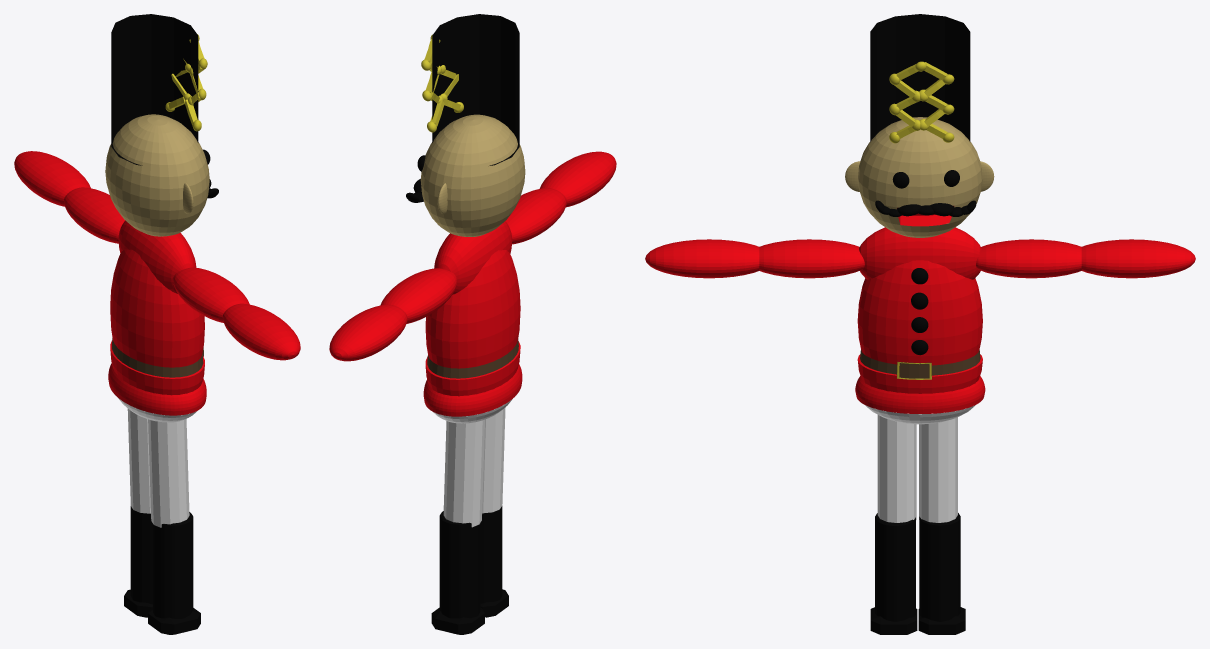
The model's file is Soldier1.fbx.
3 renders of one model, left to right at view 1: azimuth 30°, elevation 25°; view 2: azimuth 150°, elevation 25°; view 3: azimuth 270°, elevation 25°, orthographic.
Parts seen in each view (by area): view 1: Govde, Kol, Kafa, Sapka, Leg.001, Leg, Cube.001, Kemer, AltGovde; view 2: Govde, Kol, Kafa, Sapka, Leg.001, Leg, Cube.001, Kemer, AltGovde; view 3: Govde, Kol, Sapka, Kafa, Leg.001, Leg, Cube.001, Kemer, Biyik, Dugme, AltGovde.
Boxes of the visible parts, left/top/right/bottom form: Govde: left=108, top=220, right=206, bottom=415; Kol: left=14, top=151, right=300, bottom=360; Kafa: left=105, top=114, right=209, bottom=236; Sapka: left=111, top=14, right=207, bottom=165; Leg.001: left=130, top=506, right=193, bottom=618; Leg: left=127, top=408, right=189, bottom=527; Cube.001: left=124, top=589, right=200, bottom=634; Kemer: left=112, top=338, right=203, bottom=377; AltGovde: left=115, top=395, right=201, bottom=422; Govde: left=423, top=221, right=522, bottom=416; Kol: left=329, top=151, right=616, bottom=361; Kafa: left=420, top=114, right=525, bottom=236; Sapka: left=421, top=14, right=519, bottom=165; Leg.001: left=439, top=506, right=502, bottom=618; Leg: left=443, top=407, right=505, bottom=527; Cube.001: left=431, top=589, right=508, bottom=634; Kemer: left=427, top=339, right=518, bottom=378; AltGovde: left=424, top=386, right=521, bottom=423; Govde: left=855, top=224, right=985, bottom=413; Kol: left=645, top=239, right=1195, bottom=278; Sapka: left=870, top=14, right=970, bottom=143; Kafa: left=845, top=117, right=994, bottom=237; Leg.001: left=875, top=513, right=960, bottom=621; Leg: left=877, top=415, right=957, bottom=522; Cube.001: left=870, top=607, right=965, bottom=634; Kemer: left=860, top=349, right=980, bottom=379; Biyik: left=875, top=200, right=976, bottom=216; Dugme: left=911, top=268, right=928, bottom=355; AltGovde: left=857, top=399, right=983, bottom=424.
Bounding box in the file's own units: 167 × 1046 × 879.
